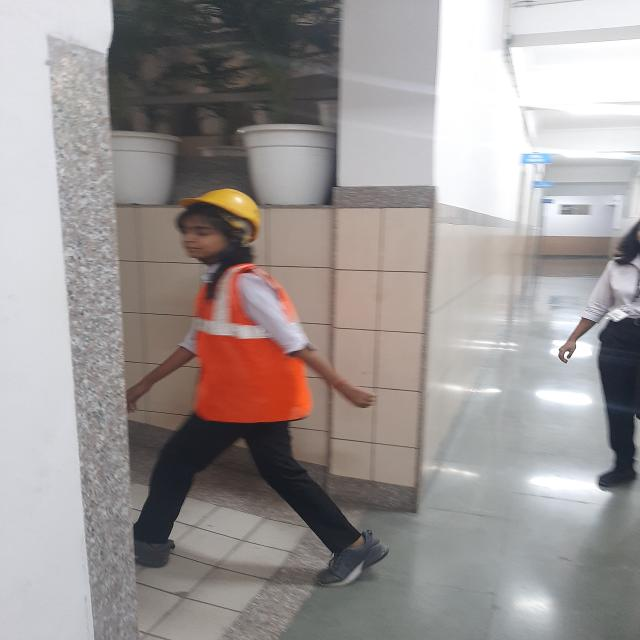safe: (128, 186, 400, 588)
unsafe: (562, 222, 640, 490)
